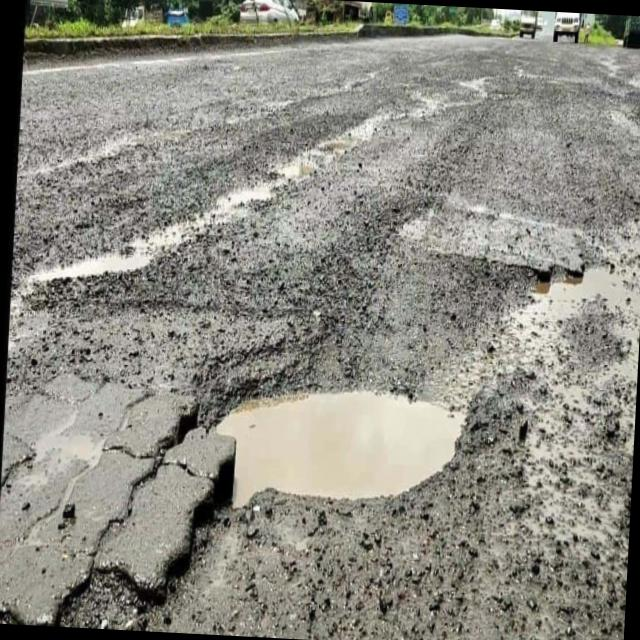Potholes: (178, 288, 536, 606), (486, 173, 640, 415)
